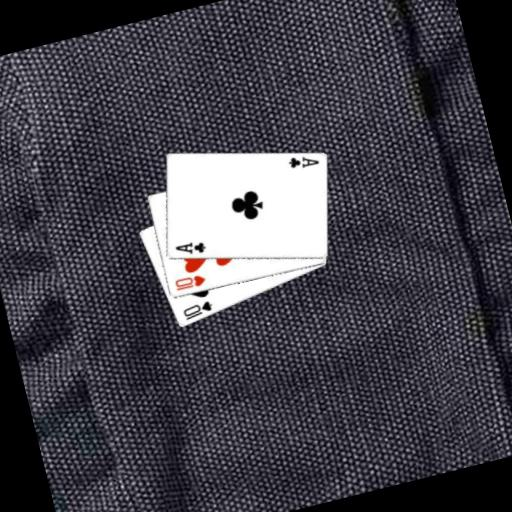10H: (171, 271, 208, 294)
10S: (179, 297, 216, 323)
AC: (172, 236, 209, 262), (284, 149, 321, 174)
